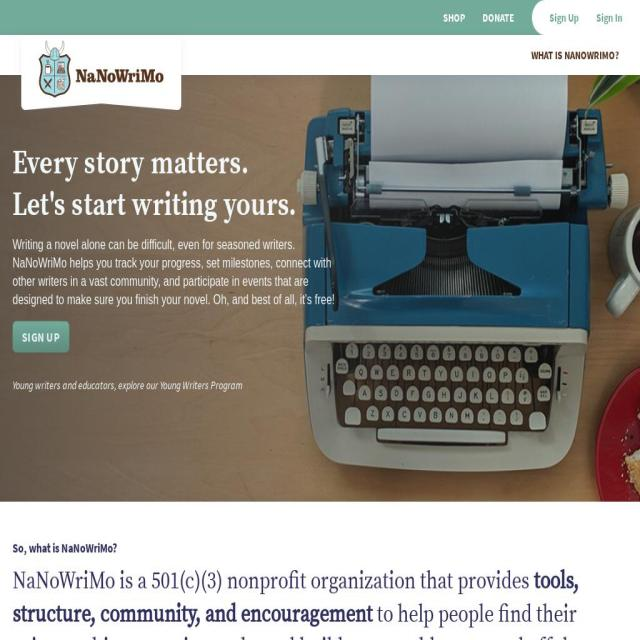button: (522, 35, 628, 75), (12, 321, 70, 352), (482, 8, 514, 27), (549, 8, 579, 27), (596, 8, 622, 27), (443, 8, 465, 27)
heading: (12, 565, 578, 630), (13, 598, 583, 640), (12, 565, 534, 597), (12, 537, 628, 558), (12, 184, 297, 226), (12, 143, 248, 184)
image: (12, 35, 190, 76)
link: (160, 378, 242, 392)
text: (12, 236, 336, 309), (12, 378, 160, 392)
